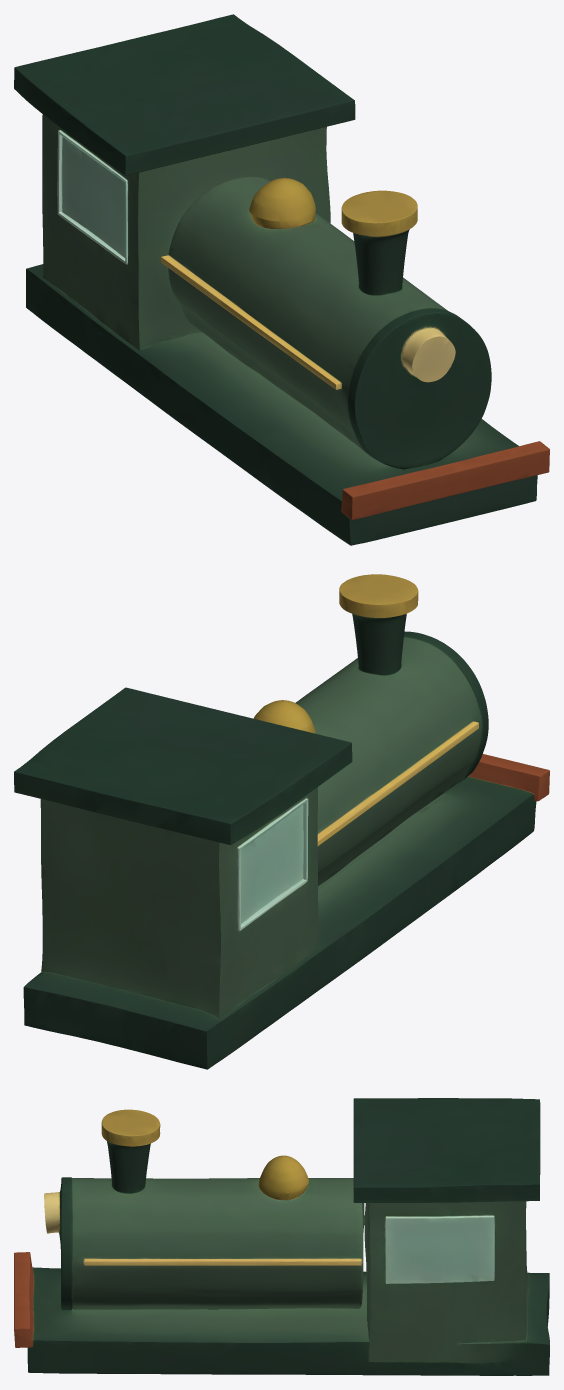
File: source.glb
The picture shows the model from 3 angles, top to bottom: view 1: azimuth 30°, elevation 25°; view 2: azimuth 150°, elevation 25°; view 3: azimuth 270°, elevation 25°; orthographic projection. The views are drawn at different scales.
Visible parts, largest first — view 1: model; view 2: model; view 3: model.
Part boxes in pixels (x1=…): model: x1=14, y1=14, x2=549, y2=545; model: x1=14, y1=574, x2=549, y2=1069; model: x1=14, y1=1098, x2=549, y2=1375.
Bounding box in the file's own units: 0.7472 × 0.8451 × 1.9.
Materials: 1 (1 with a texture image).
